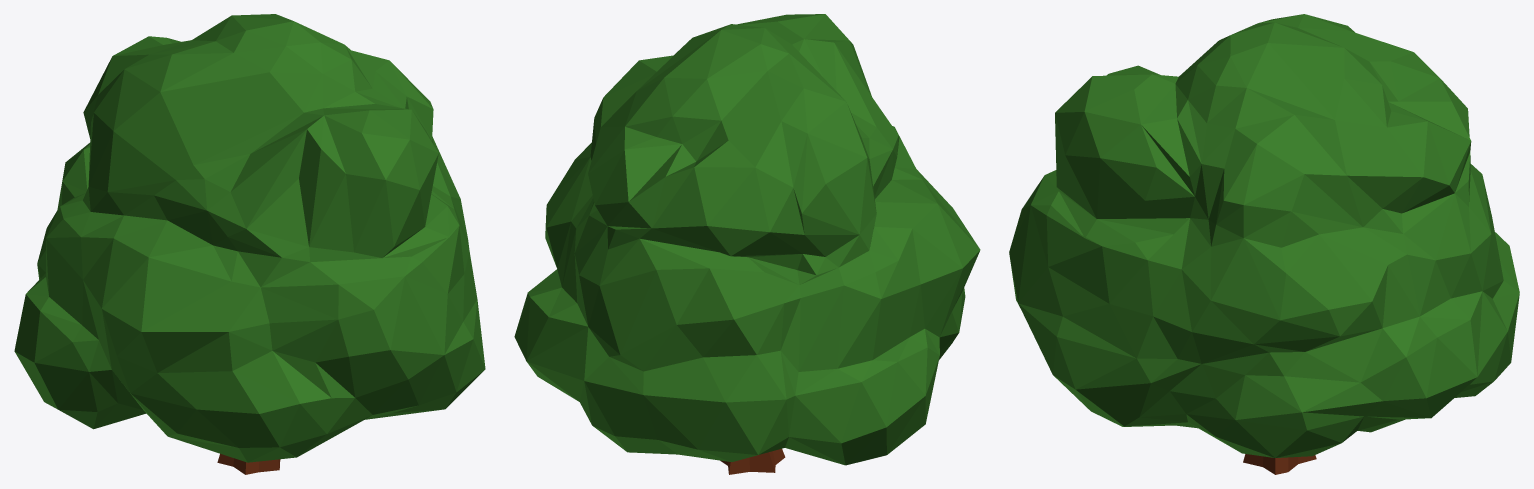
Rendered from beech_2.glb.
The picture shows the model from 3 angles, left to right: view 1: azimuth 30°, elevation 25°; view 2: azimuth 150°, elevation 25°; view 3: azimuth 270°, elevation 25°; orthographic projection. The views are drawn at different scales.
Visible parts, largest first — view 1: Cylinder; view 2: Cylinder; view 3: Cylinder.
Part boxes in pixels (x1,y1,x2,y2): Cylinder: [14, 14, 485, 474]; Cylinder: [514, 14, 980, 474]; Cylinder: [1009, 14, 1519, 474].
Bounding box in the file's own units: 13.49 × 14.2 × 15.11.
